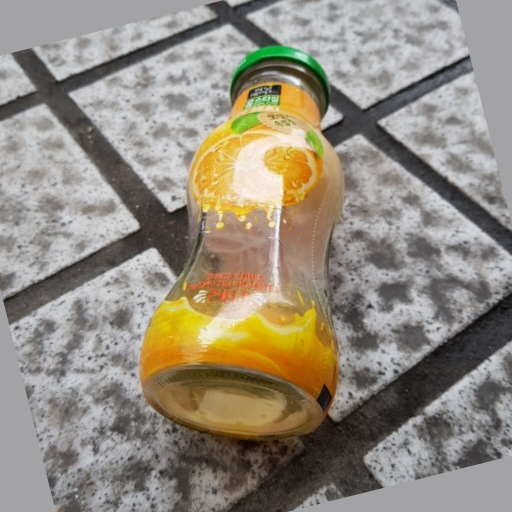Glass_4: (145, 42, 348, 439)
